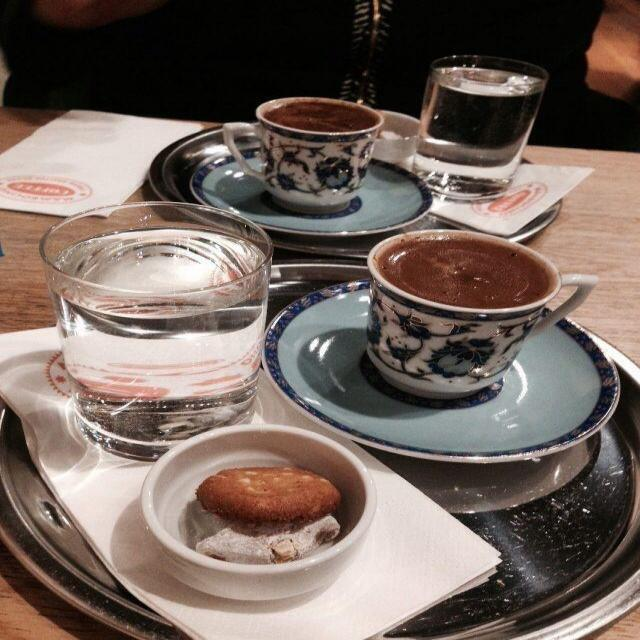cup-handle: (362, 228, 597, 406), (220, 96, 383, 216)
glass-normal: (37, 198, 274, 457), (408, 52, 551, 200)
